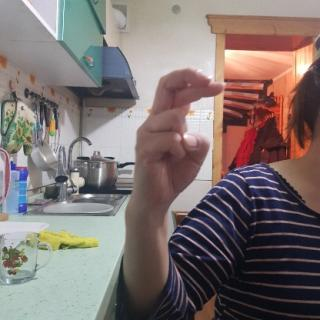ZAY: (130, 62, 226, 214)
